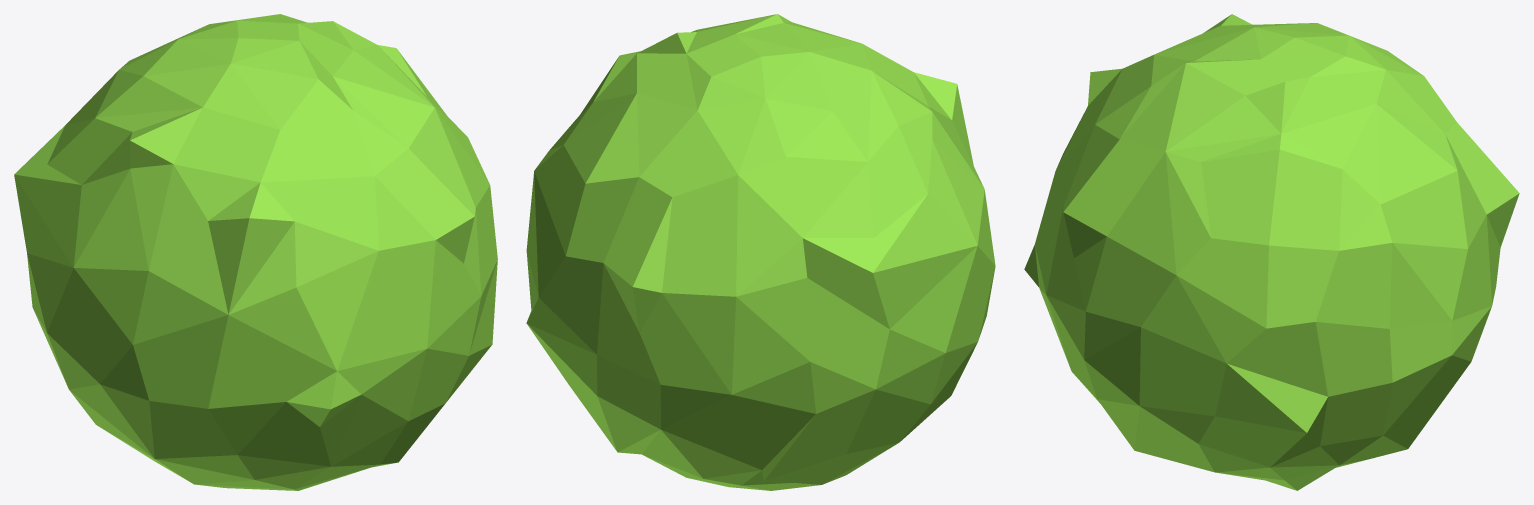
The model's file is Planet8.fbx.
3 views of the same model, side by side, from view 1: azimuth 30°, elevation 25°; view 2: azimuth 150°, elevation 25°; view 3: azimuth 270°, elevation 25° (orthographic). The views are drawn at different scales.
Parts seen in each view (by area): view 1: Planet8; view 2: Planet8; view 3: Planet8.
Part boxes in pixels (left/top/right/bottom): Planet8: left=14, top=14, right=497, bottom=490; Planet8: left=526, top=14, right=995, bottom=490; Planet8: left=1024, top=14, right=1519, bottom=490.
Size of the model in its own units: 10.89 by 10.73 by 11.57.
